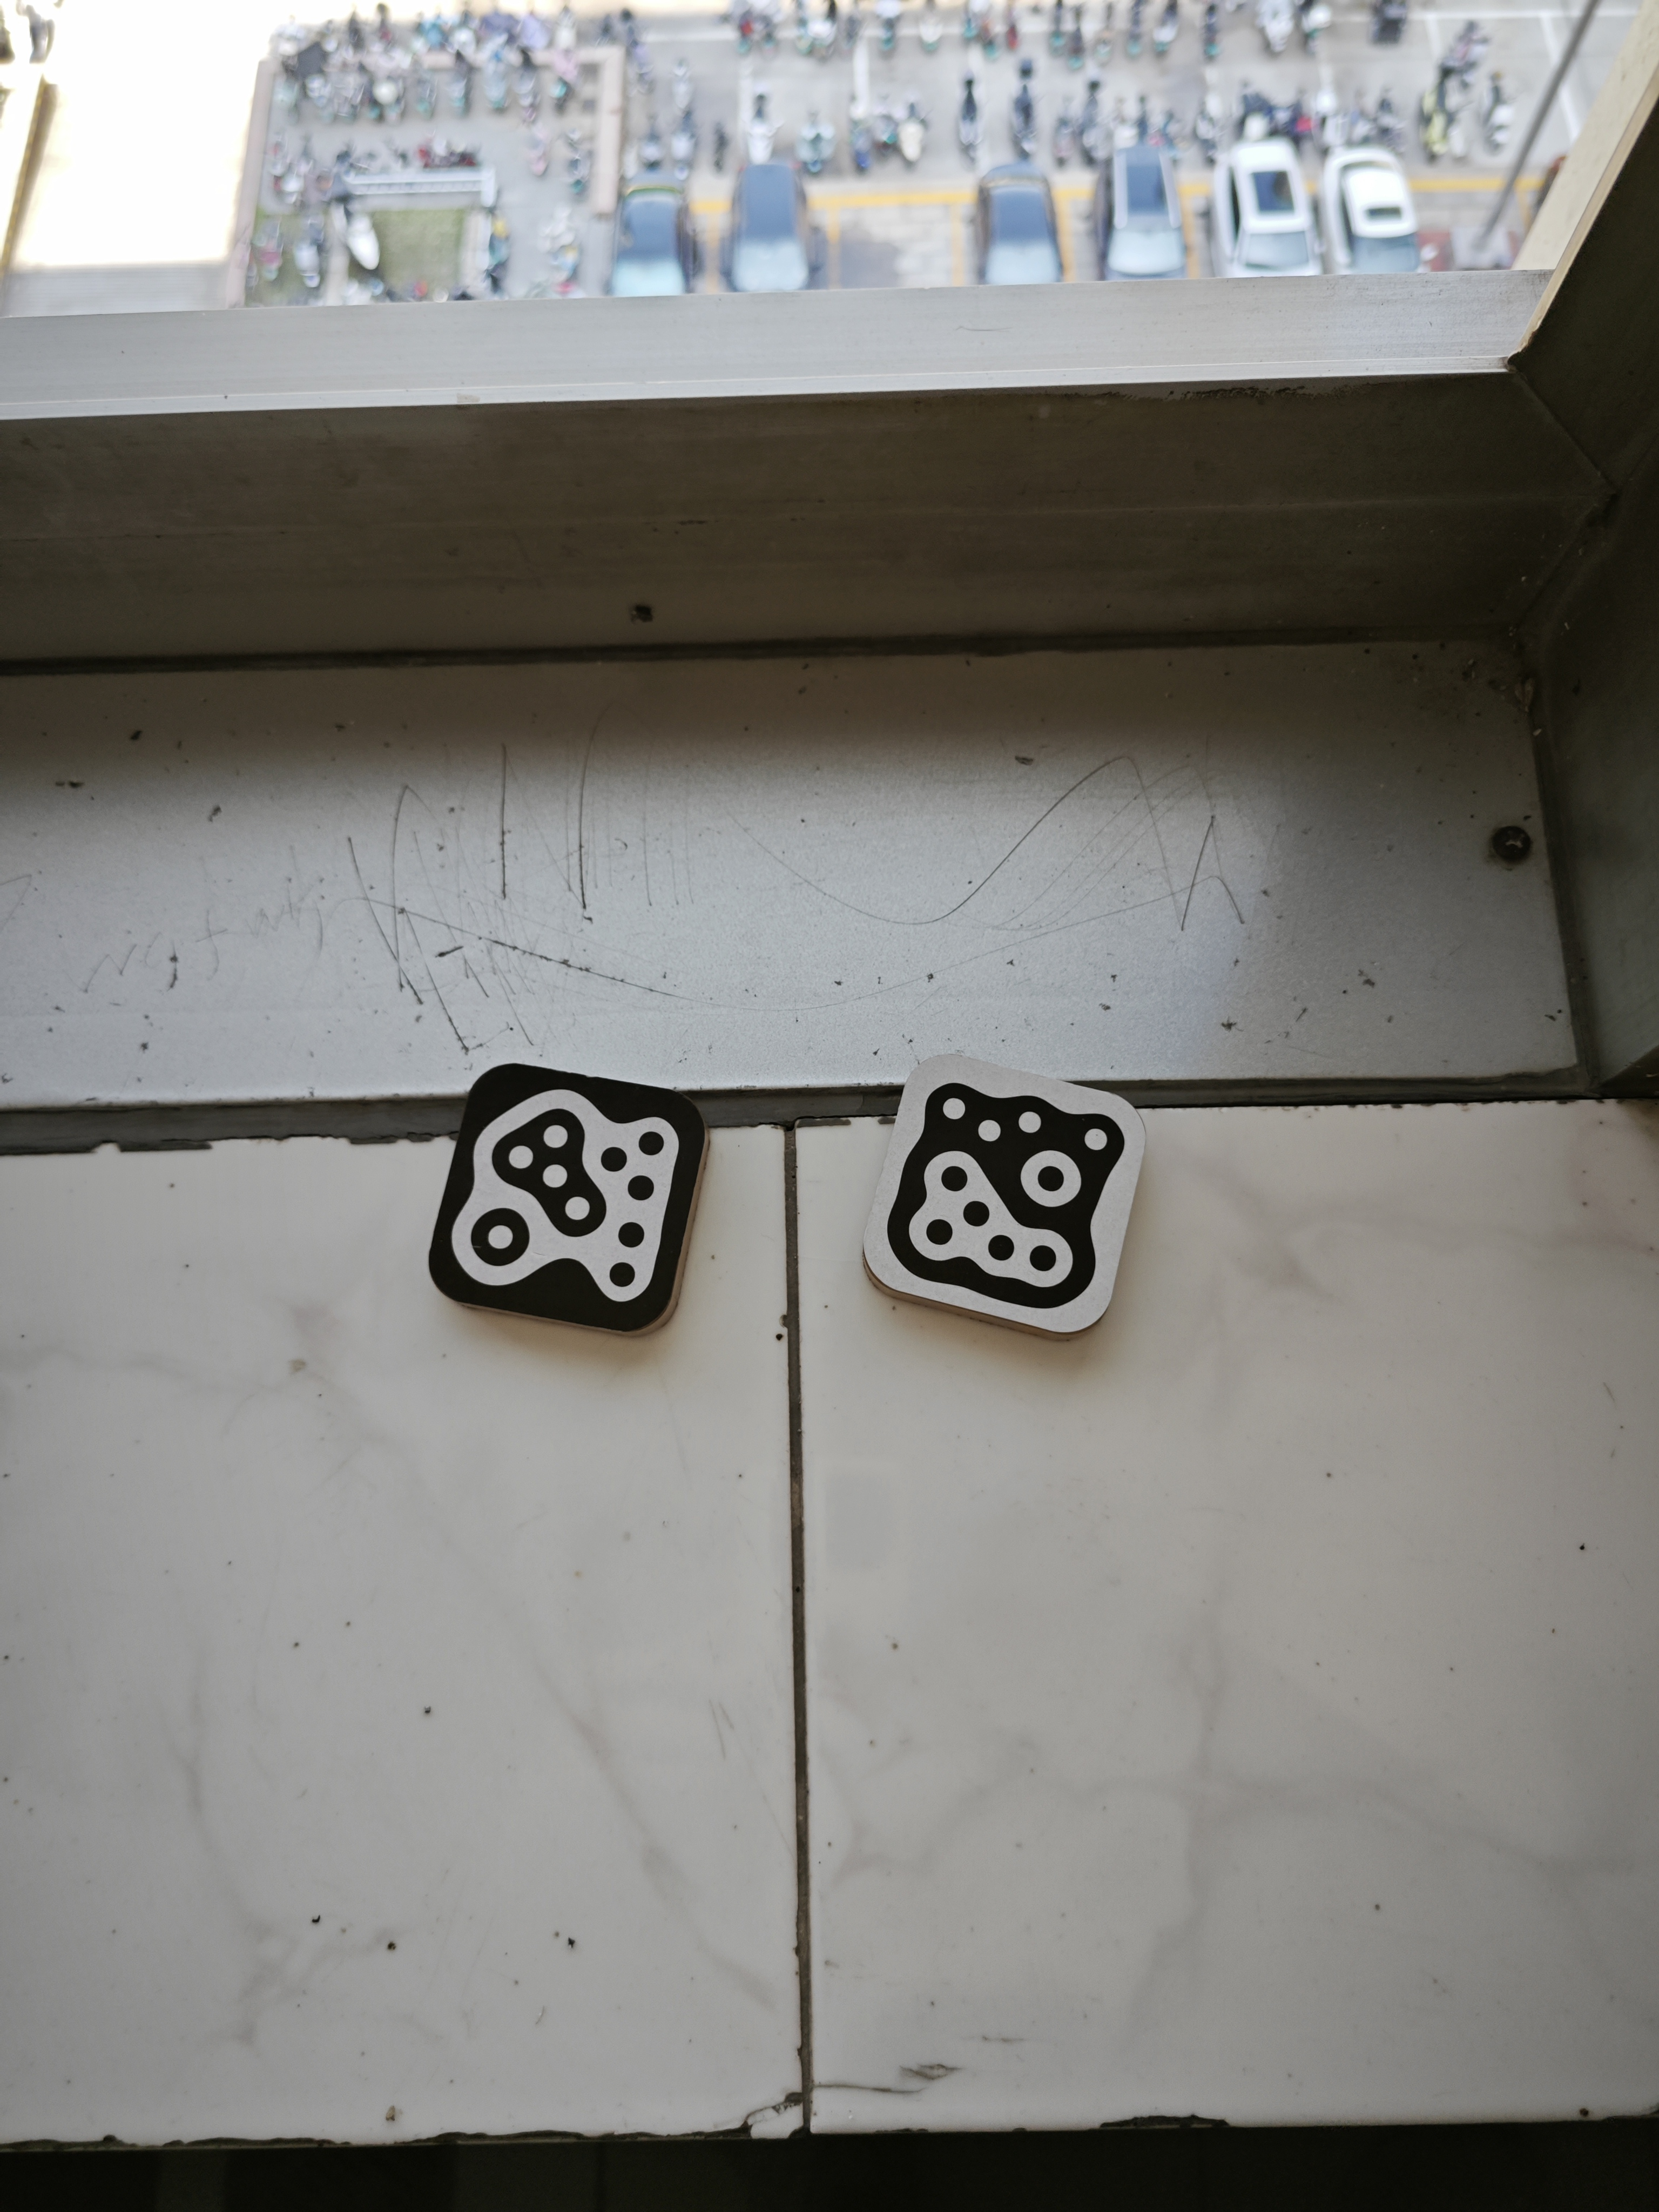mark1: (885, 1082, 1126, 1312)
mark2: (443, 1083, 690, 1318)
